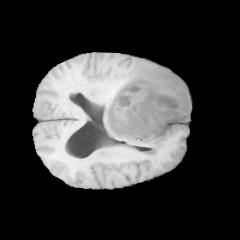glioma: (105, 62, 191, 149)
